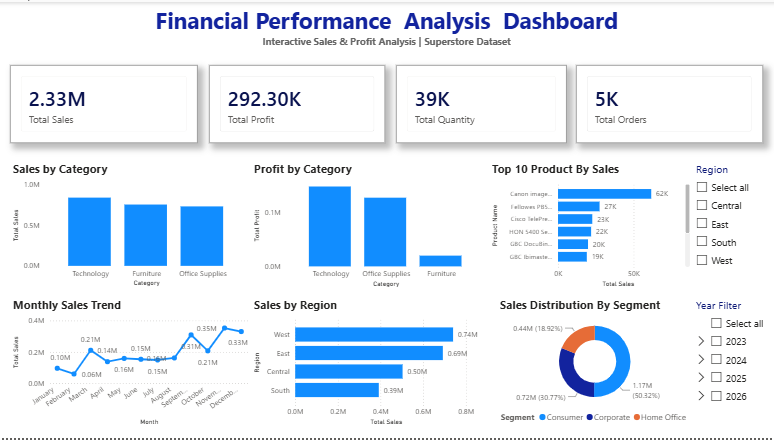

Layout of this report page (visuals, bound fields, positions):
{"tool":"powerbi","page":{"name":"Page 1","canvas":[1280,720],"ordinal":0},"visuals":[{"type":"textbox","box":[0,0,1280.5,150.7],"z":0},{"type":"cardVisual","fields":{"Data":["Orders.Total Sales"]},"box":[17.6,103.9,310.2,128.8],"z":1000},{"type":"cardVisual","fields":{"Data":["Orders.Total Profit"]},"box":[346.3,103.9,291.2,128.8],"z":2000},{"type":"cardVisual","fields":{"Data":["Orders.Total Quantity"]},"box":[656.1,103.9,282.4,128.8],"z":3000},{"type":"cardVisual","fields":{"Data":["Orders.Total Orders"]},"box":[953,104.1,308.9,128.8],"z":4000},{"type":"clusteredColumnChart","title":" Sales by Category","fields":{"Category":["Orders.Category"],"Y":["Orders.Total Sales"]},"box":[17.6,263.4,398,212.2],"z":5000},{"type":"clusteredColumnChart","title":"Profit  by Category","fields":{"Category":["Orders.Category"],"Y":["Orders.Total Profit"]},"box":[416.2,262.6,393.1,213.1],"z":6000},{"type":"lineChart","title":"Monthly Sales Trend","fields":{"Y":["Orders.Total Sales"],"Category":["Orders.Order Date.Variation.Date Hierarchy.Year","Orders.Order Date.Variation.Date Hierarchy.Month"]},"box":[17.6,487.3,398,216.6],"z":7000},{"type":"clusteredBarChart","title":"Sales by Region","fields":{"Category":["Orders.Region"],"Y":["Orders.Total Sales"]},"box":[415.6,487.3,393.7,216.6],"z":8000},{"type":"listSlicer","title":"Year Filter ","fields":{"Values":["Orders.Order Date.Variation.Date Hierarchy.Year","Orders.Order Date.Variation.Date Hierarchy.Quarter","Orders.Order Date.Variation.Date Hierarchy.Month","Orders.Order Date.Variation.Date Hierarchy.Day"]},"box":[1146.2,487.2,133.8,216.4],"z":9000},{"type":"listSlicer","fields":{"Values":["Orders.Region"]},"box":[1145.9,263.4,127.3,212.2],"z":10000},{"type":"clusteredBarChart","title":"Top 10 Product By Sales","fields":{"Category":["Orders.Product Name"],"Y":["Orders.Total Sales"]},"box":[809.3,262.6,336.9,213.1],"z":11000},{"type":"donutChart","title":"Sales Distribution By Segment","fields":{"Y":["Orders.Total Sales"],"Category":["Orders.Segment"]},"box":[822,487,323,217],"z":12000}]}

Visuals, with their boxes in screenshot pixels (x1, y1, x2, y2), scaled from the page's 1280x720 canvas onto the 774x440 screenshot:
textbox: 0 0 773 92
cardVisual - Orders.Total Sales: 11 63 198 142
cardVisual - Orders.Total Profit: 209 63 385 142
cardVisual - Orders.Total Quantity: 397 63 567 142
cardVisual - Orders.Total Orders: 576 64 763 142
" Sales by Category" clusteredColumnChart: 11 161 251 291
"Profit  by Category" clusteredColumnChart: 252 160 489 291
"Monthly Sales Trend" lineChart: 11 298 251 430
"Sales by Region" clusteredBarChart: 251 298 489 430
"Year Filter " listSlicer: 693 298 773 430
listSlicer - Orders.Region: 693 161 770 291
"Top 10 Product By Sales" clusteredBarChart: 489 160 693 291
"Sales Distribution By Segment" donutChart: 497 298 692 430
